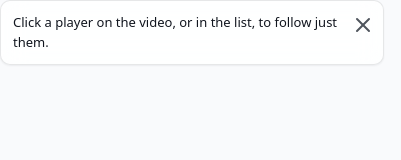
Test: Hints › shows one tip at a time, in order, and remembers dismissals
Expected: the text "follow just them" is shown, left=13, top=13, right=337, bottom=50
Click the button named "Dismiss tip" at (363, 25), box left=347, top=9, right=379, bottom=41
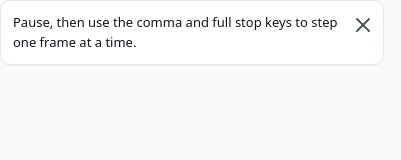
Now the text "one frame at a time" is shown, box left=13, top=13, right=338, bottom=50
